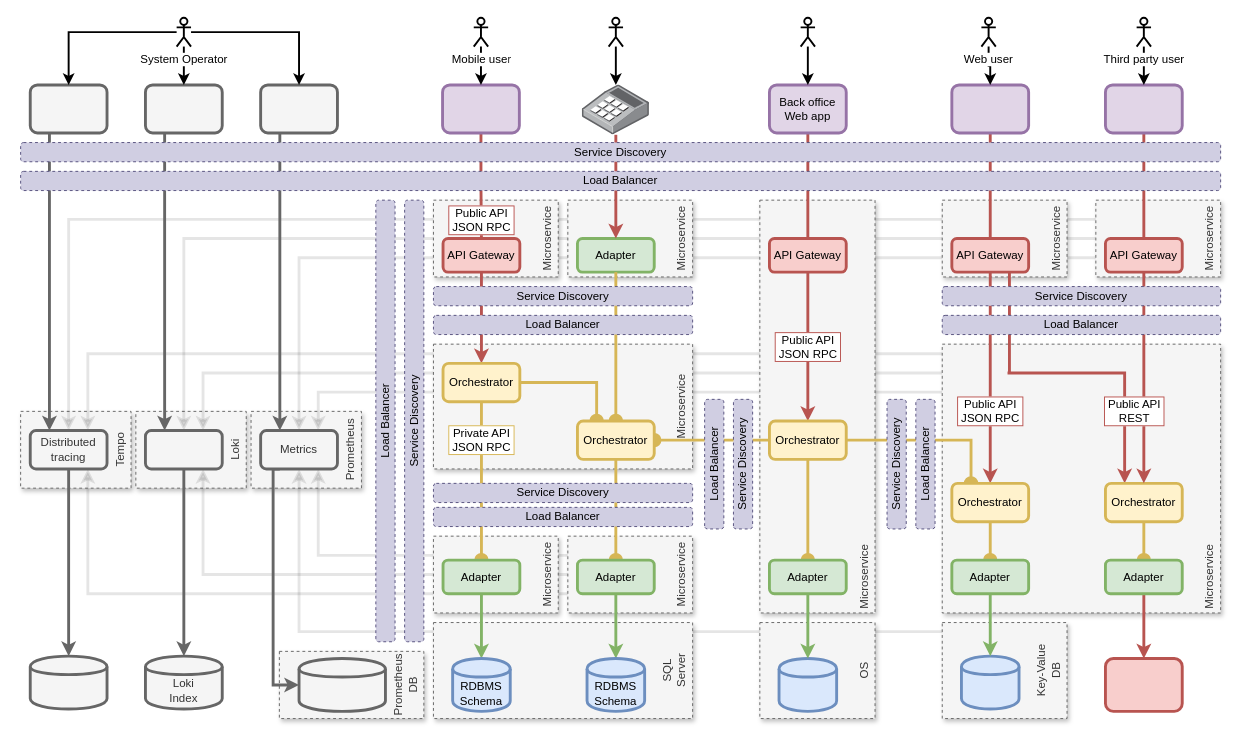
Some shapes in this 1243 by 742 pixel diagram are drawn without their labels. Here are the shapes that lost their labels. From the top down, the centre of each, then its label:
the point at 615,31: Device User
the point at 807,31: Back office user
the point at 68,108: Tracing UI (Grafana)
the point at 183,108: Logging UI (Grafana)
the point at 298,108: Metrics UI (Grafana)
the point at 480,108: Mobile app
the point at 990,108: End user Web app
the point at 1143,108: Third party App
the point at 183,449: Log aggregation
the point at 68,682: BLOB Storage
the point at 341,684: Time series
the point at 807,684: File System
the point at 990,682: Key-Value Schema
the point at 1143,684: External API
